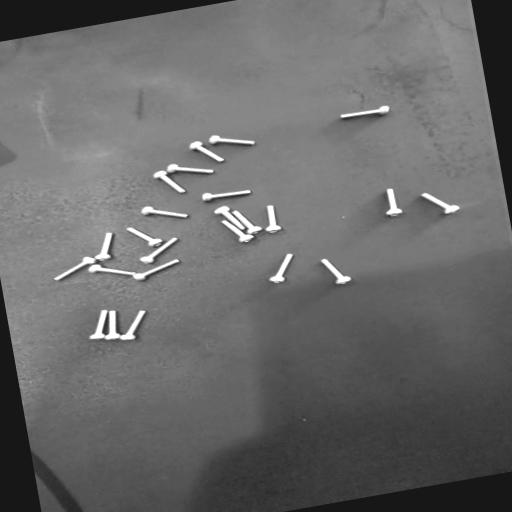Bolt: (140, 237, 178, 264), (134, 259, 180, 281), (54, 257, 96, 280), (421, 193, 459, 214), (321, 259, 351, 284), (214, 206, 245, 230), (154, 170, 185, 193), (222, 220, 254, 242), (189, 142, 224, 162), (121, 311, 145, 340), (233, 211, 262, 234), (270, 254, 293, 283), (127, 228, 162, 247), (341, 106, 390, 119), (89, 264, 135, 276), (142, 206, 188, 218), (89, 310, 108, 339), (202, 190, 251, 201), (95, 233, 113, 260), (167, 164, 213, 174), (266, 205, 282, 233), (105, 311, 120, 340), (386, 189, 402, 216), (209, 136, 255, 145)
